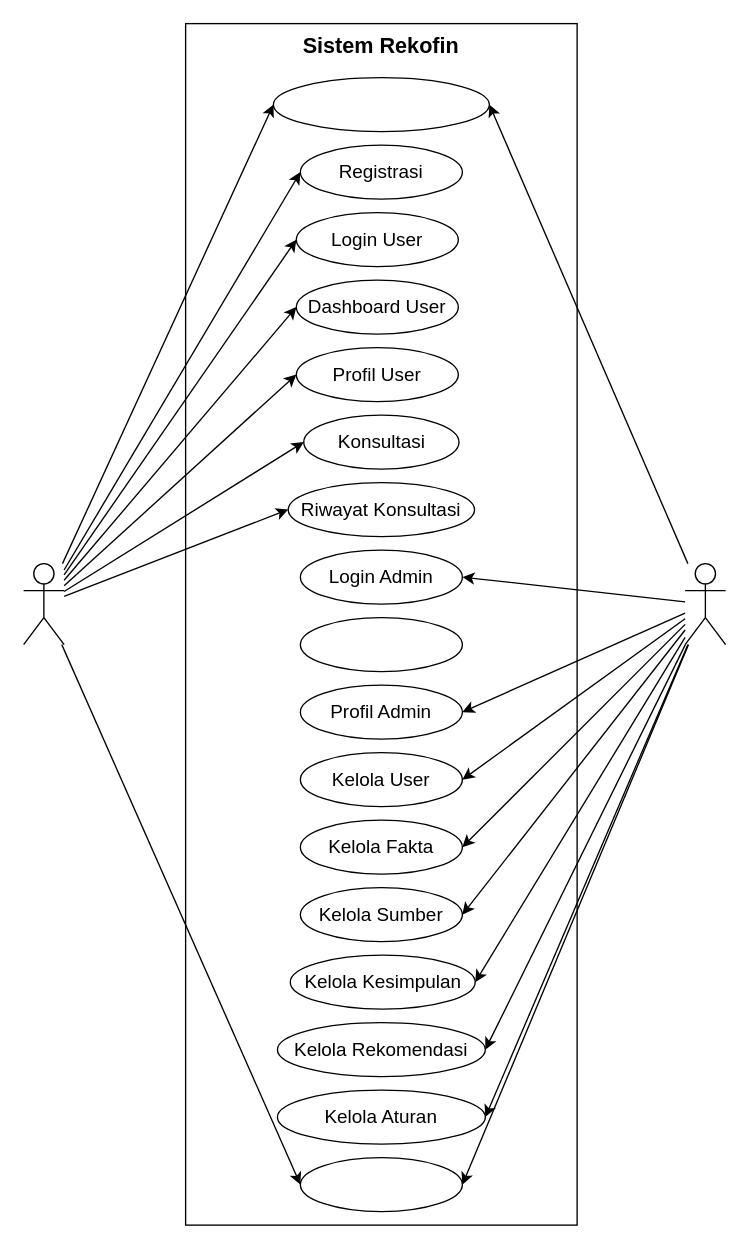
Some shapes in this 753 by 1249 pixel diagram are drawn without their labels. The centre of each missing label's shape, as x and y in pixels:
"Admin" belongs at [705,603].
"Dashboard Admin" belongs at [380,644].
"Landing Page" belongs at [380,104].
"Logout" belongs at [380,1184].
"User" belongs at [43,603].
